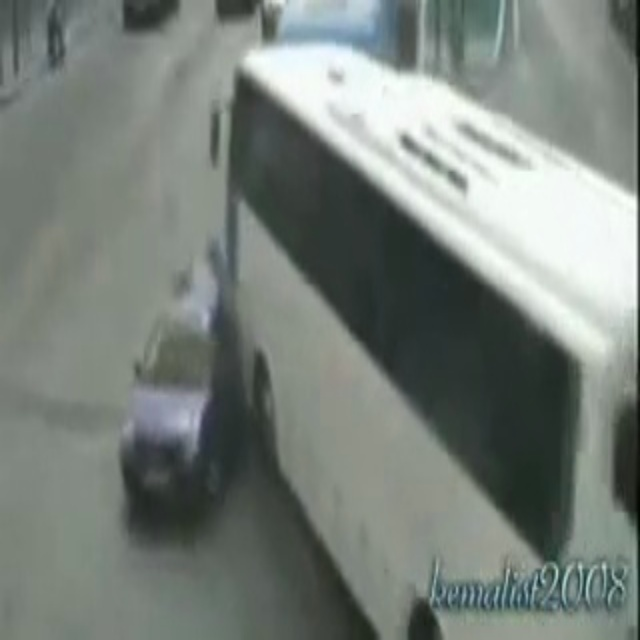acc: (111, 39, 355, 515)
